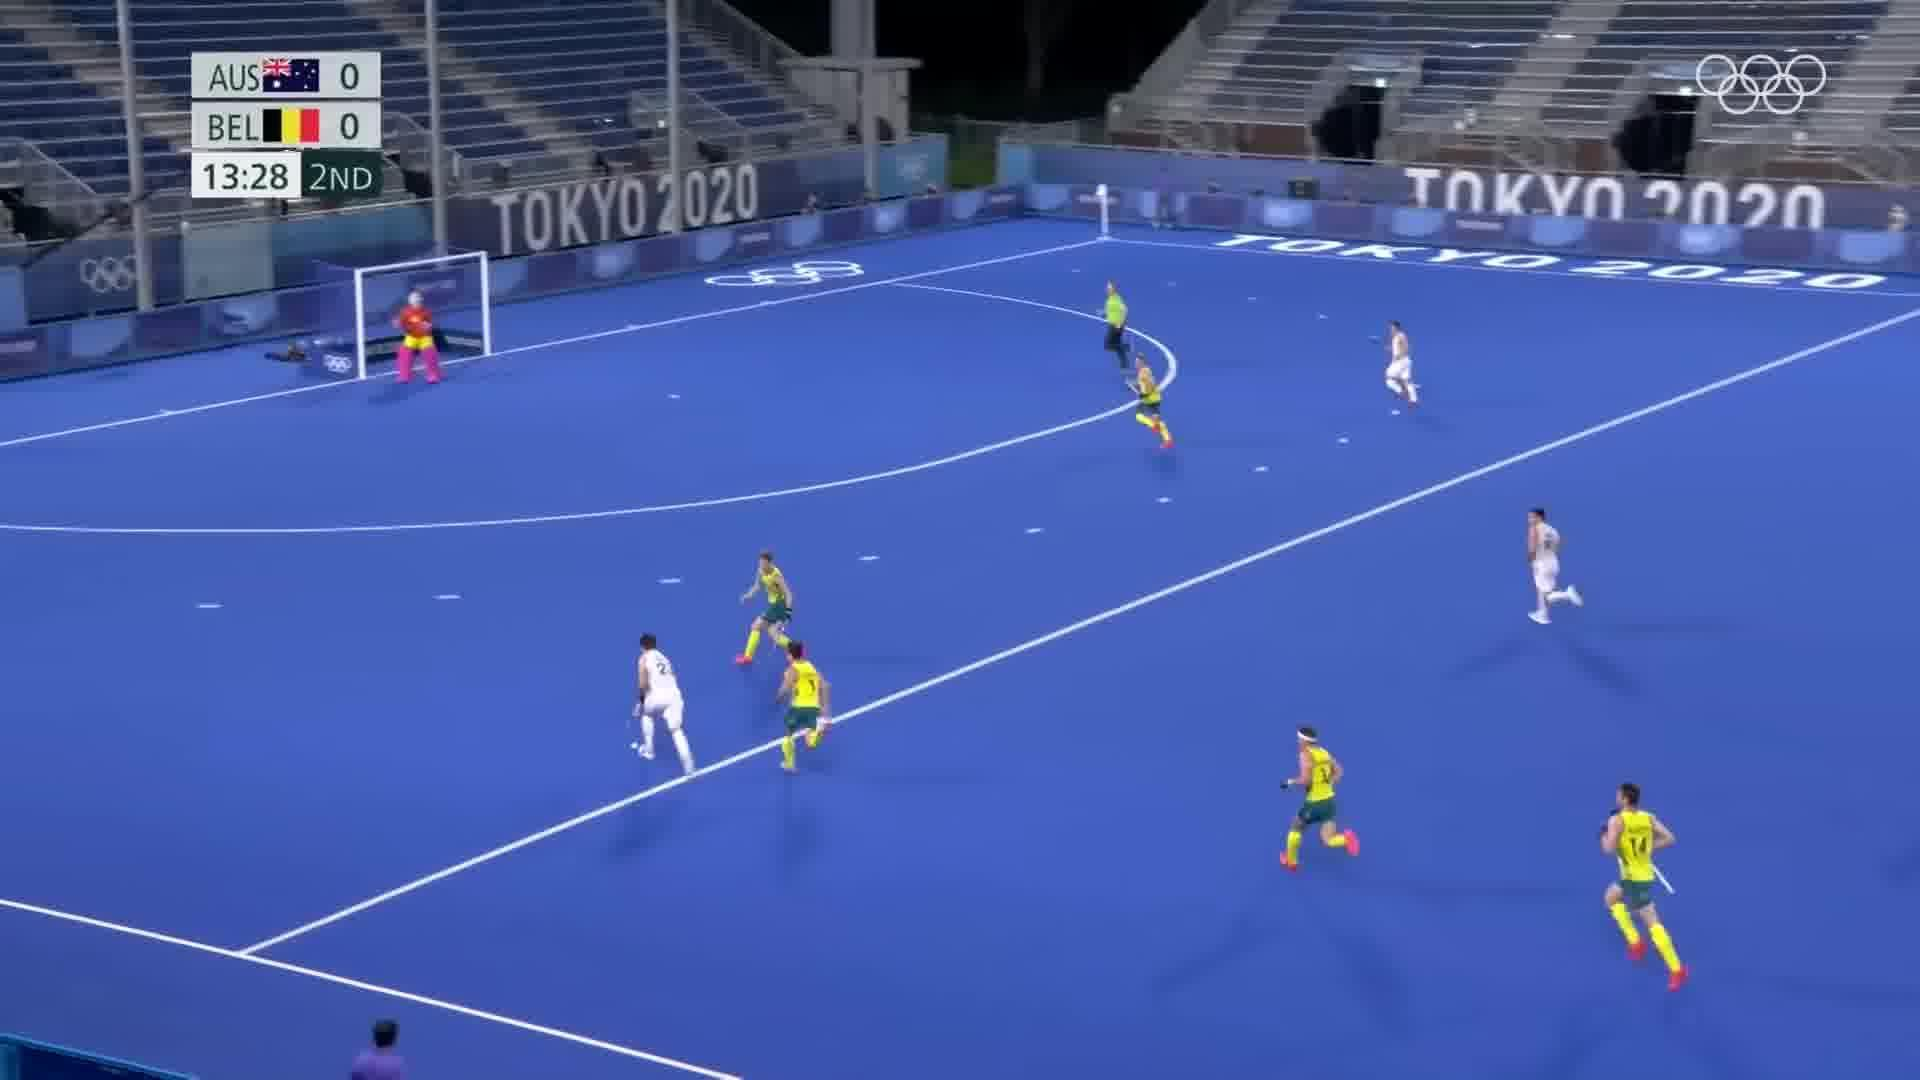ball: (622, 735, 640, 756)
